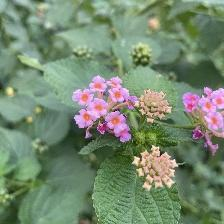common lanthana: (72, 73, 139, 144)
